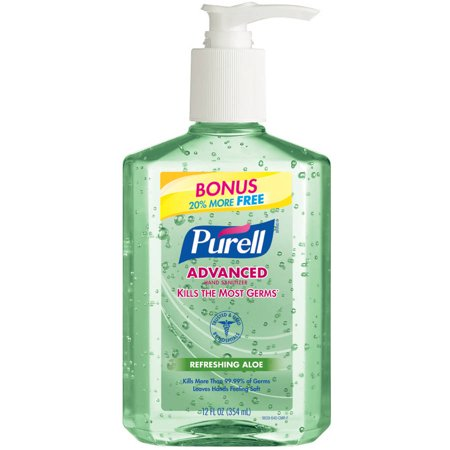Sanitizer: (112, 1, 335, 447)
